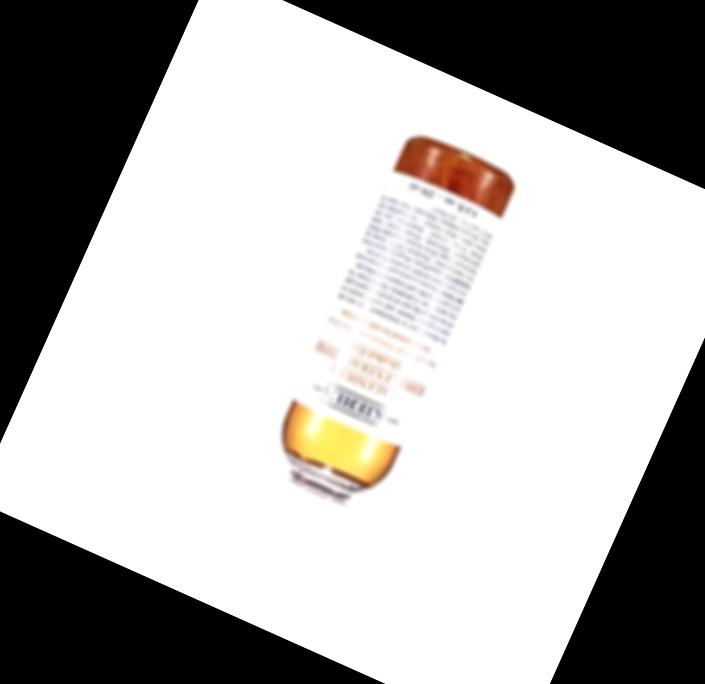cosmetic: (229, 127, 520, 586)
